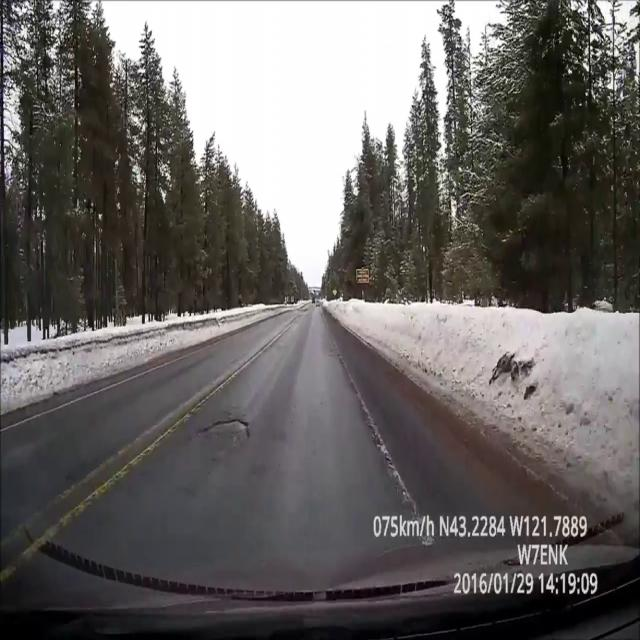Pothole: (200, 416, 250, 438)
